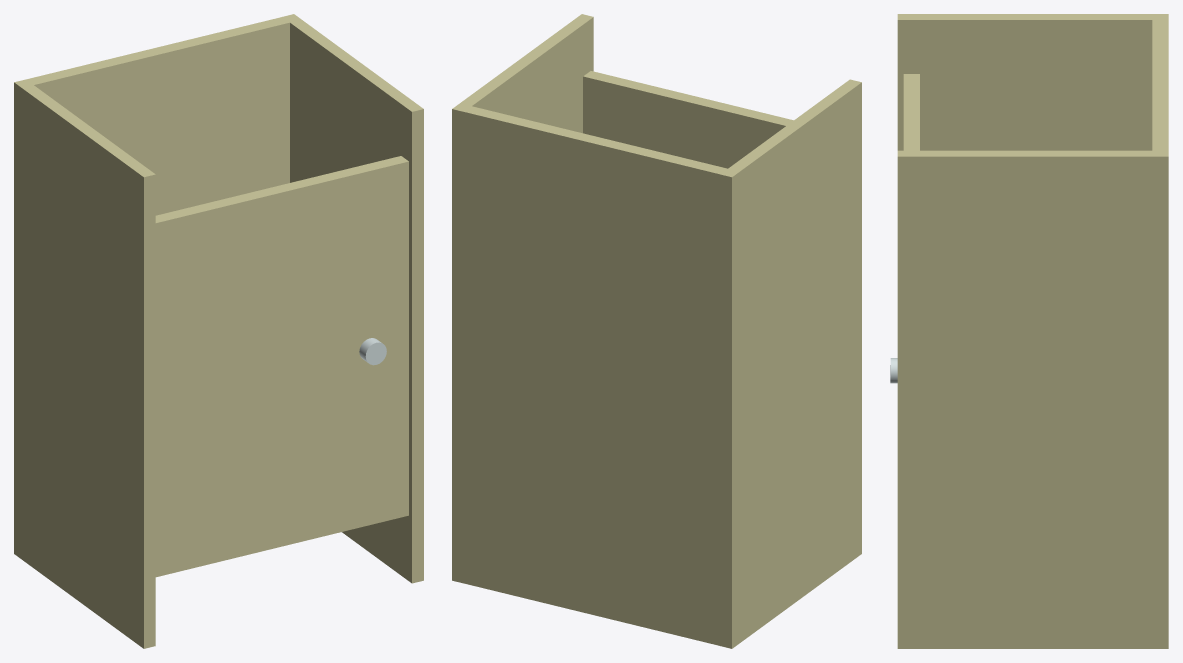
The model's file is Changing Room.fbx.
3 renders of one model, left to right at view 1: azimuth 30°, elevation 25°; view 2: azimuth 150°, elevation 25°; view 3: azimuth 270°, elevation 25°, orthographic. The views are drawn at different scales.
Visible parts, largest first — view 1: door, side_fitting_suite, side_fitting_suite2, side_fitting_suite1; view 2: side_fitting_suite2, side_fitting_suite, side_fitting_suite1, door; view 3: side_fitting_suite1, side_fitting_suite, side_fitting_suite2, door.
Boxes of the visible parts, bbox=[...] form: door: bbox=[155, 156, 408, 577]; side_fitting_suite: bbox=[14, 79, 155, 648]; side_fitting_suite2: bbox=[21, 16, 292, 215]; side_fitting_suite1: bbox=[283, 14, 423, 583]; side_fitting_suite2: bbox=[460, 105, 729, 645]; side_fitting_suite: bbox=[720, 79, 861, 648]; side_fitting_suite1: bbox=[452, 14, 593, 583]; door: bbox=[583, 71, 793, 168]; side_fitting_suite1: bbox=[897, 150, 1168, 648]; side_fitting_suite: bbox=[897, 14, 1168, 150]; side_fitting_suite2: bbox=[1152, 18, 1168, 152]; door: bbox=[903, 74, 919, 150].
Bounding box in the file's own units: 1.09 × 1.76 × 0.8999.
